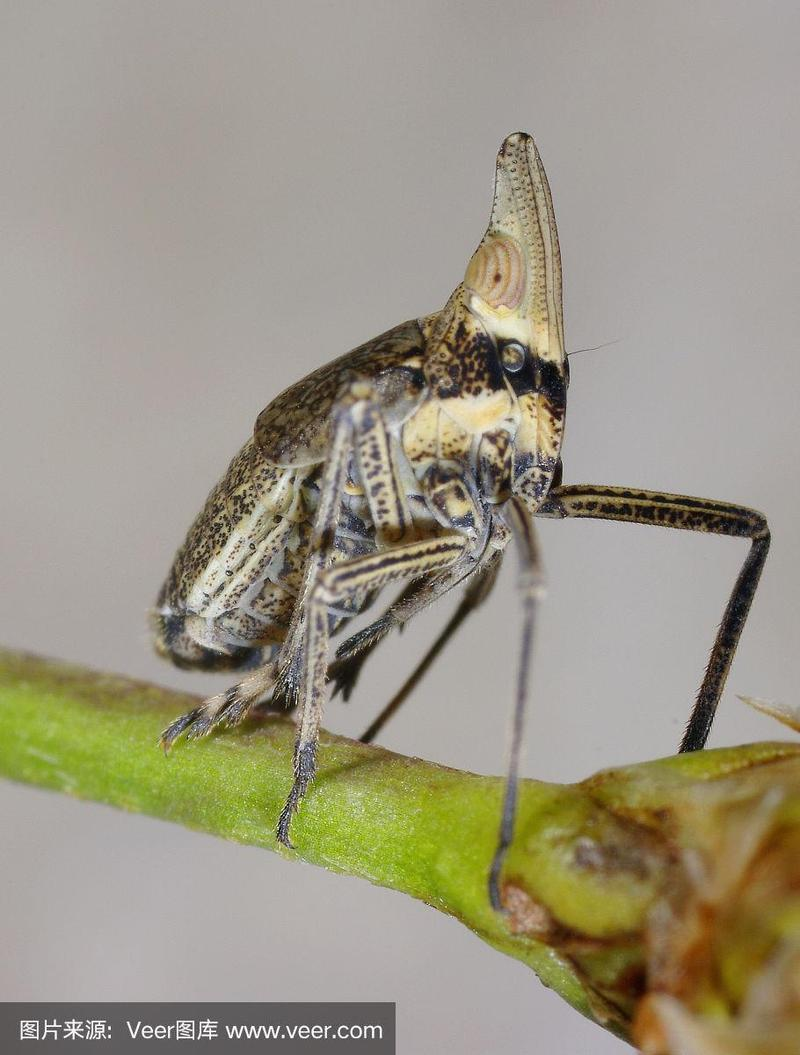Cicadellidae: (149, 130, 772, 902)
